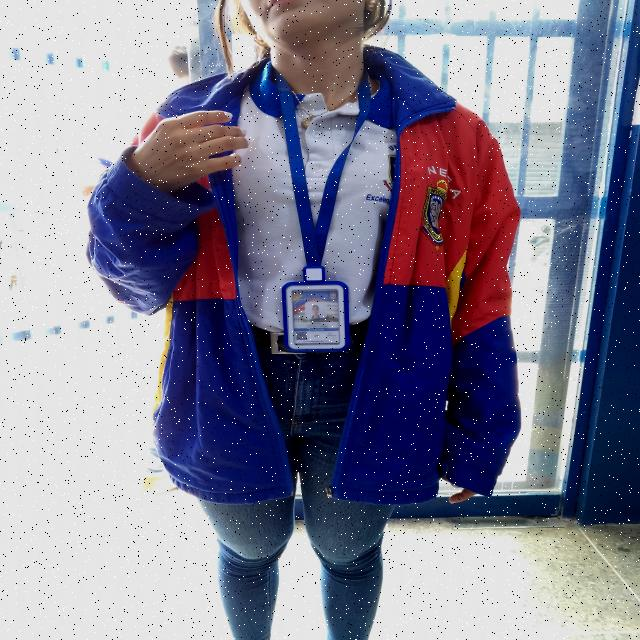carnet: (288, 287, 345, 349)
chaqueta_unefa: (88, 45, 522, 505)
